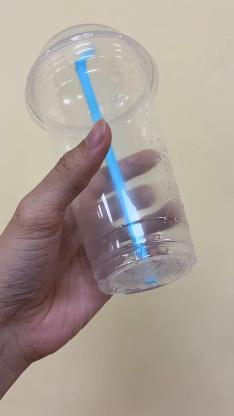Plastic Cup: (24, 20, 200, 296)
